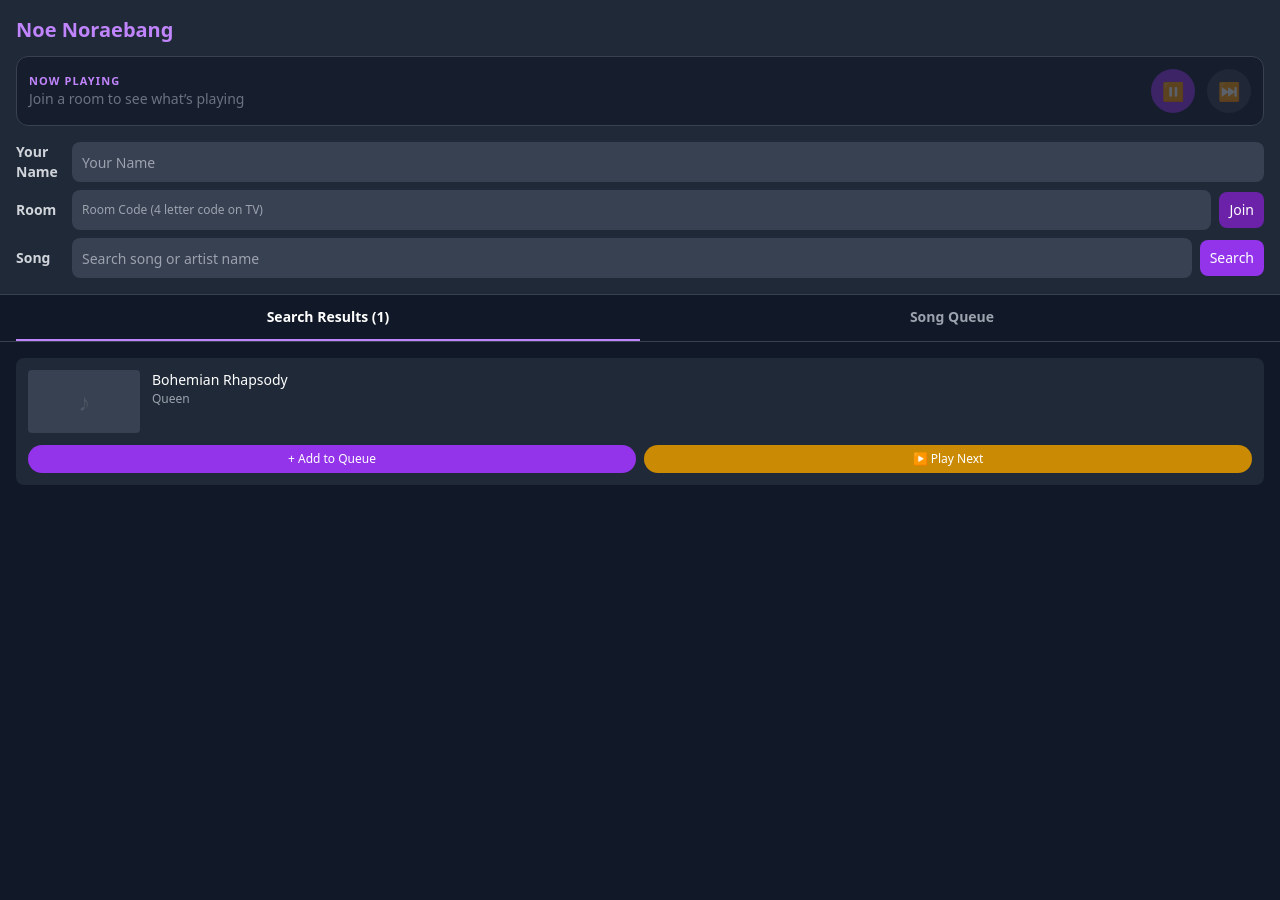
Test: MobileView › adding songs › flags a room code that does not exist as soon as it is joined
Type "Alex" into the field labelled "Your Name".
click(668, 162); type("Alex")  # box [72,142,1264,182]
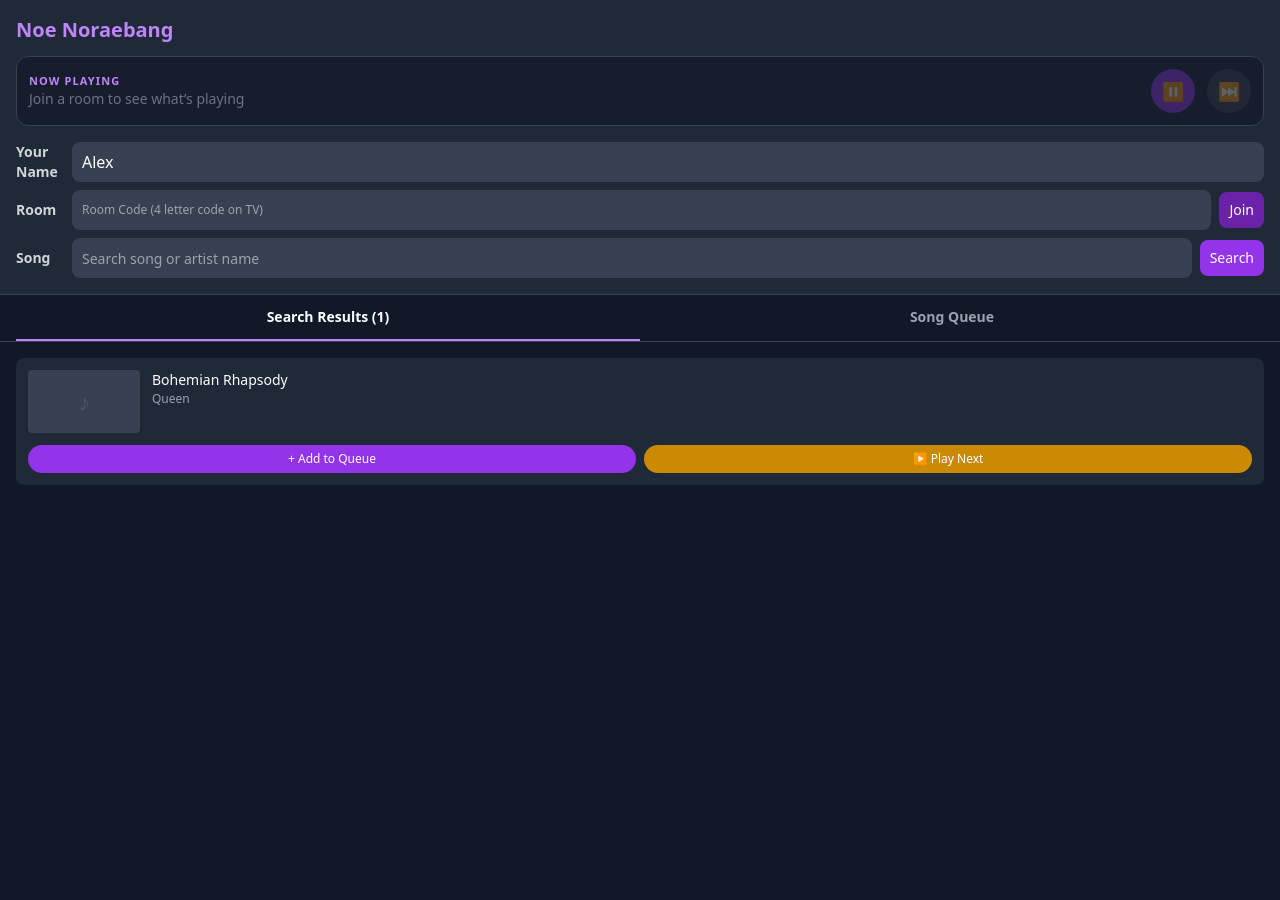
Type "1953" into the field labelled "Room".
click(642, 210); type("1953")  # box [72,190,1211,230]
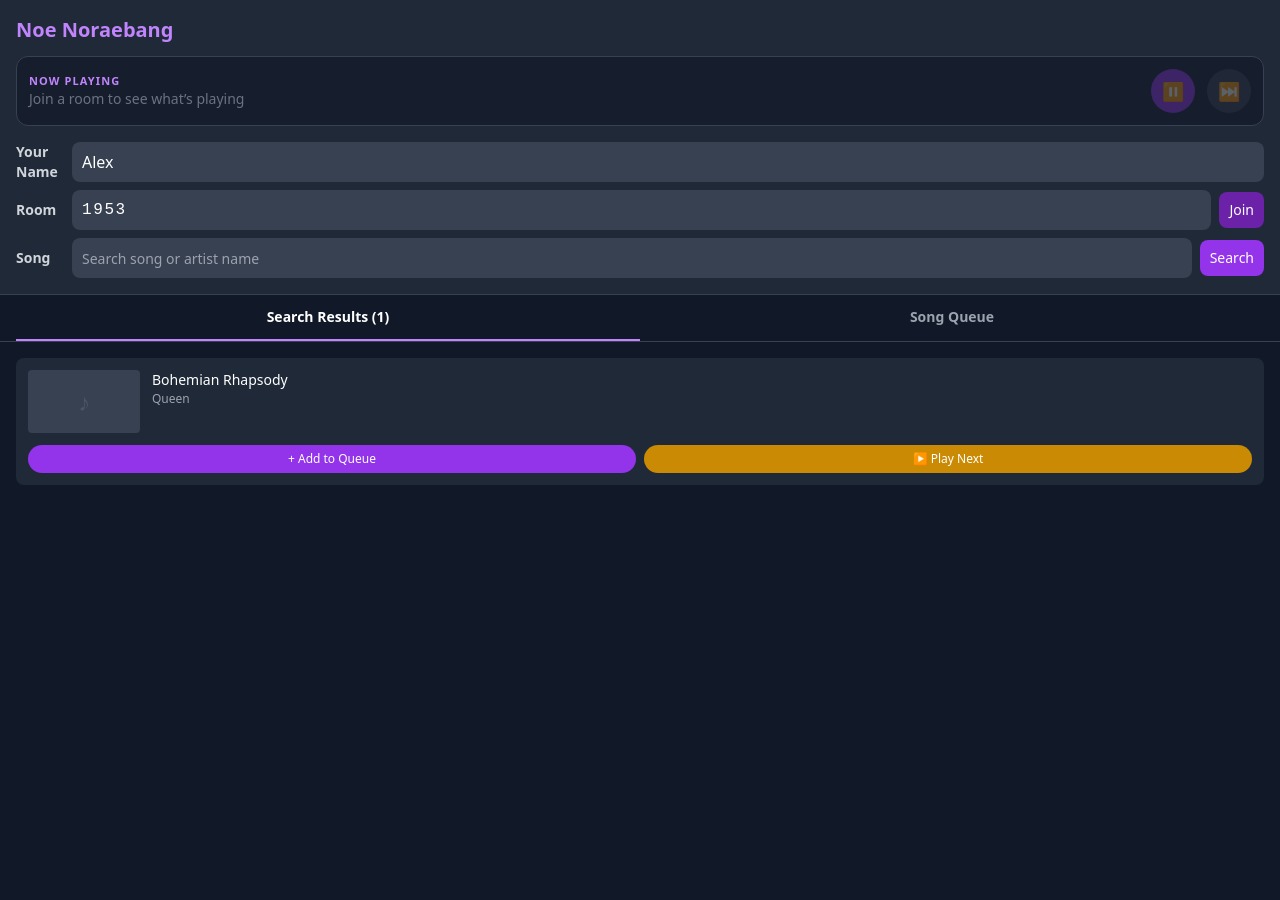
Click the button with test id "join-room-btn".
click(1242, 210)  # box [1219,192,1264,228]
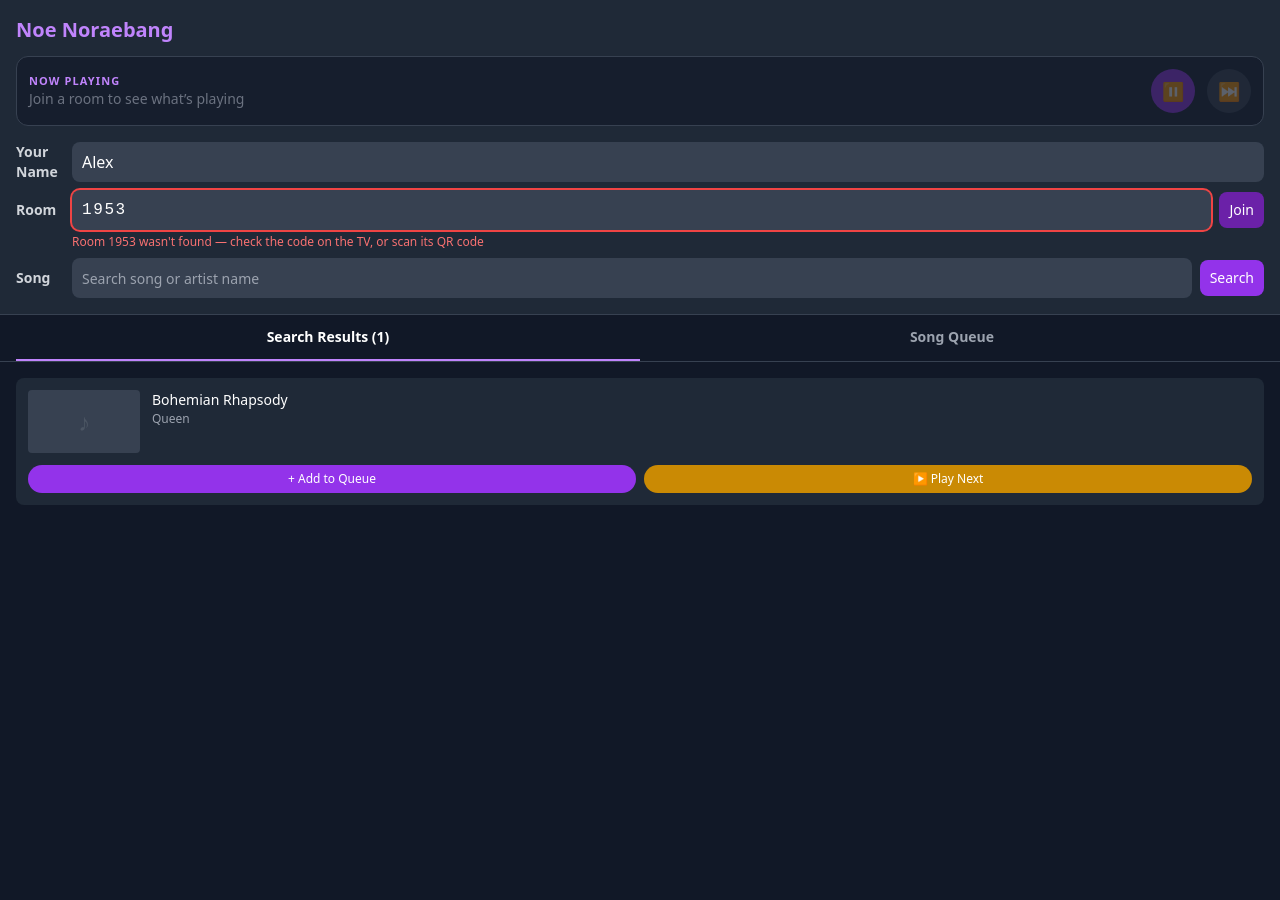
Now the text with test id "room-error" shows "Room 1953 wasn't found", box [72,233,484,250]
Click the button "+ Add to Queue".
click(332, 479)  # box [28,465,636,493]
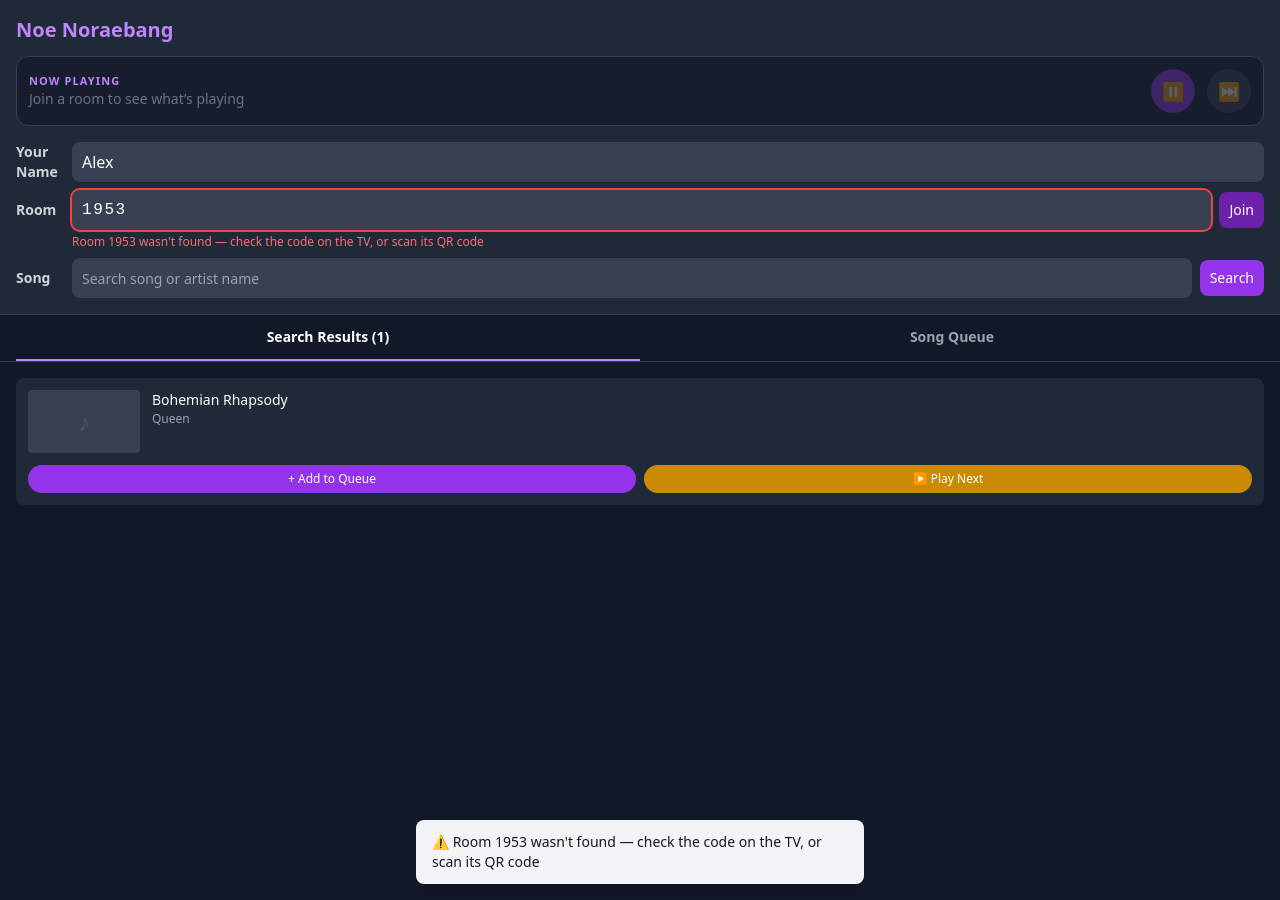
Now the message with test id "toast" shows "Room 1953 wasn't found", box [432,832,822,871]
